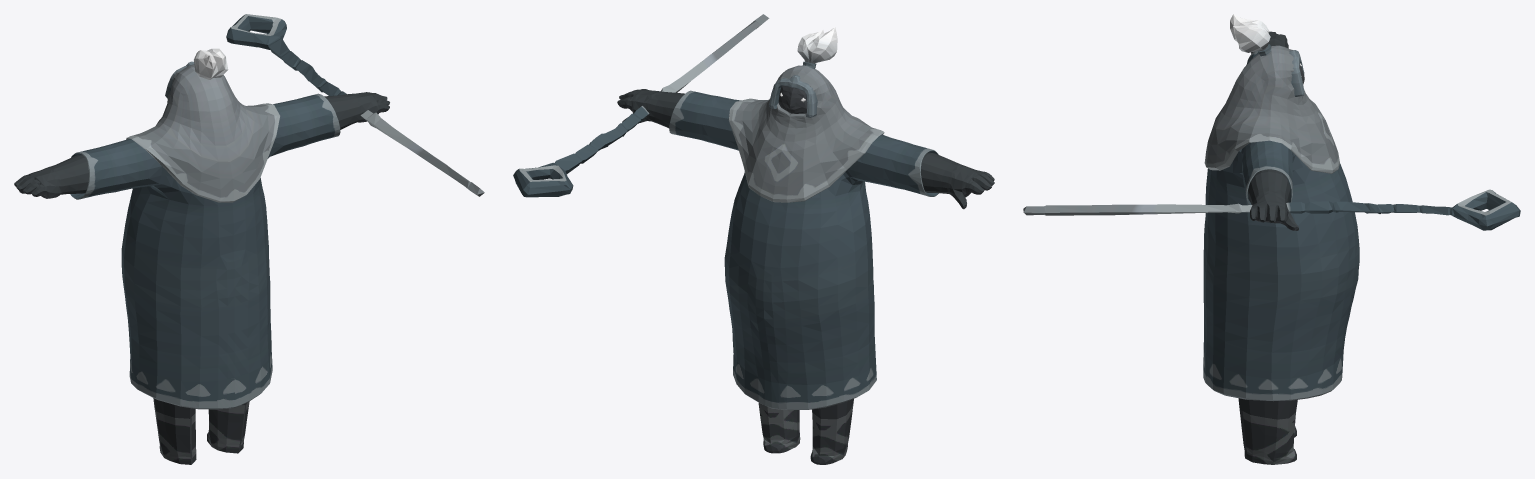
Rendered from CharSkyNPC_Body_FatLaborStaff.glb.
The picture shows the model from 3 angles, left to right: view 1: azimuth 30°, elevation 25°; view 2: azimuth 150°, elevation 25°; view 3: azimuth 270°, elevation 25°; orthographic projection. The views are drawn at different scales.
Parts seen in each view (by area): view 1: CharSkyNPC_Body_FatLaborStaff; view 2: CharSkyNPC_Body_FatLaborStaff; view 3: CharSkyNPC_Body_FatLaborStaff.
Part boxes in pixels (box(x1,y1,x2,y2)): CharSkyNPC_Body_FatLaborStaff: box(14, 14, 484, 464); CharSkyNPC_Body_FatLaborStaff: box(513, 14, 994, 464); CharSkyNPC_Body_FatLaborStaff: box(1023, 14, 1520, 464).
Size of the model in its own units: 14.16 by 14.88 by 15.71.
Materials: 1 (1 with a texture image).
